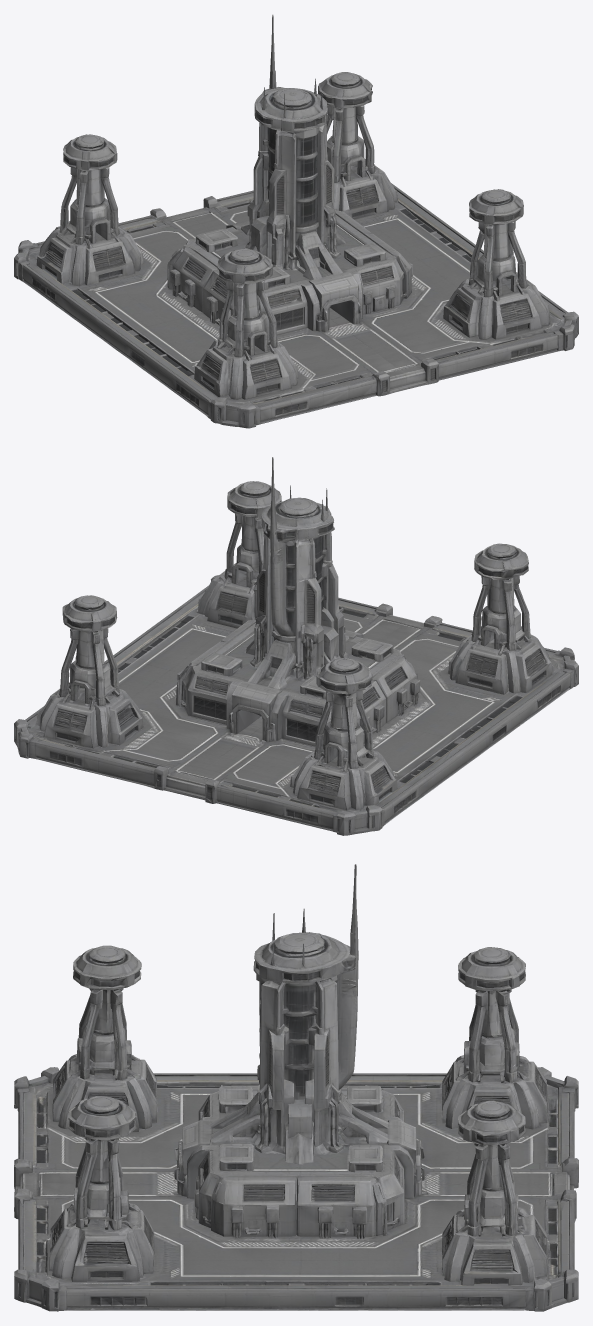
File: shared_planetary_shield_compound.glb
3 renders of one model, top to bottom at view 1: azimuth 30°, elevation 25°; view 2: azimuth 150°, elevation 25°; view 3: azimuth 270°, elevation 25°, orthographic. The views are drawn at different scales.
Visible parts, largest first — view 1: mesh_node; view 2: mesh_node; view 3: mesh_node.
Boxes of the visible parts, box(x1,y1,x2,y2) form: mesh_node: box(14, 14, 578, 428); mesh_node: box(14, 457, 578, 835); mesh_node: box(14, 864, 578, 1311).
Bounding box in the file's own units: 30.72 × 21.99 × 33.35.
1 material, 1 textured.
